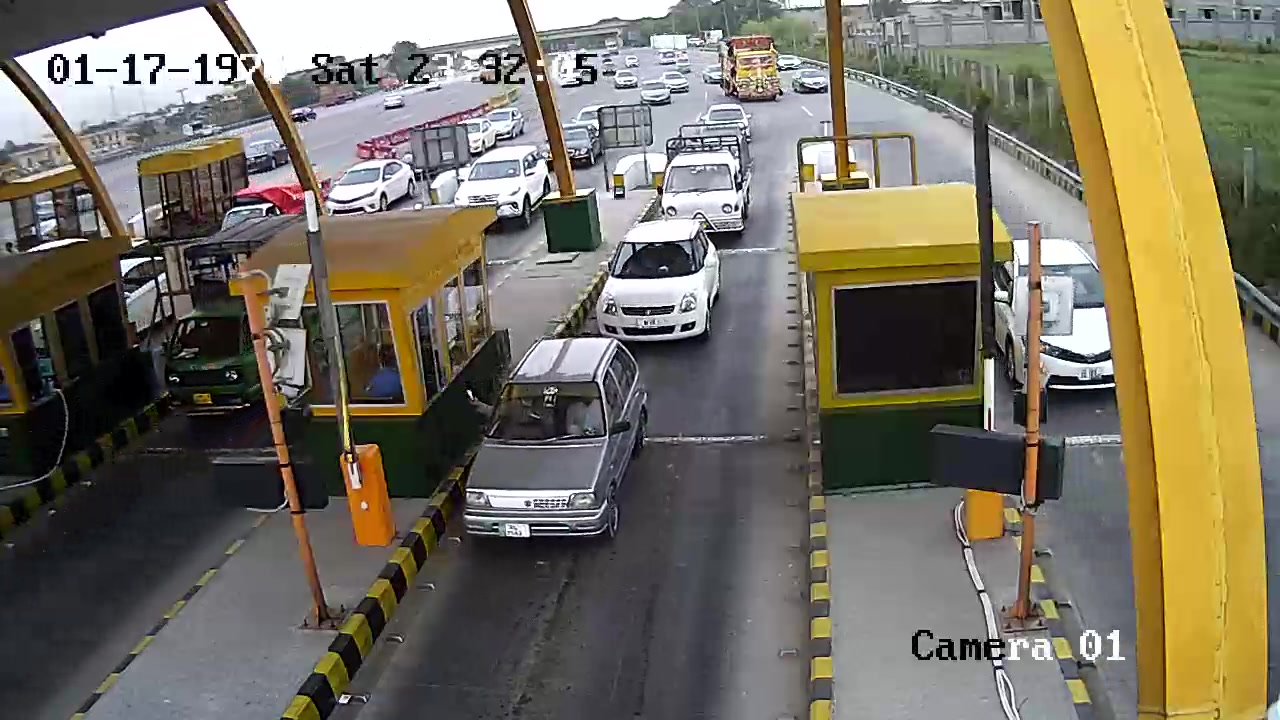F1: (451, 333, 640, 565), (597, 215, 730, 338)
